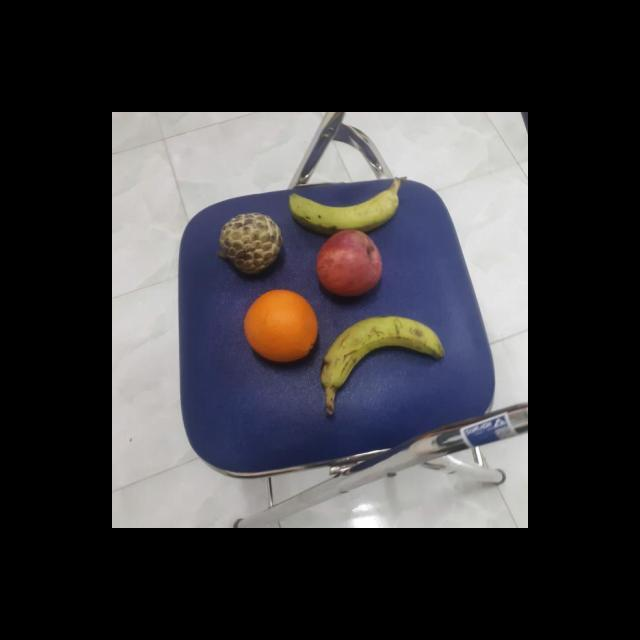Sakya fruit: (214, 208, 286, 274)
apple: (312, 229, 386, 297)
banana: (321, 314, 446, 391), (288, 177, 405, 233)
orange: (240, 289, 322, 363)
